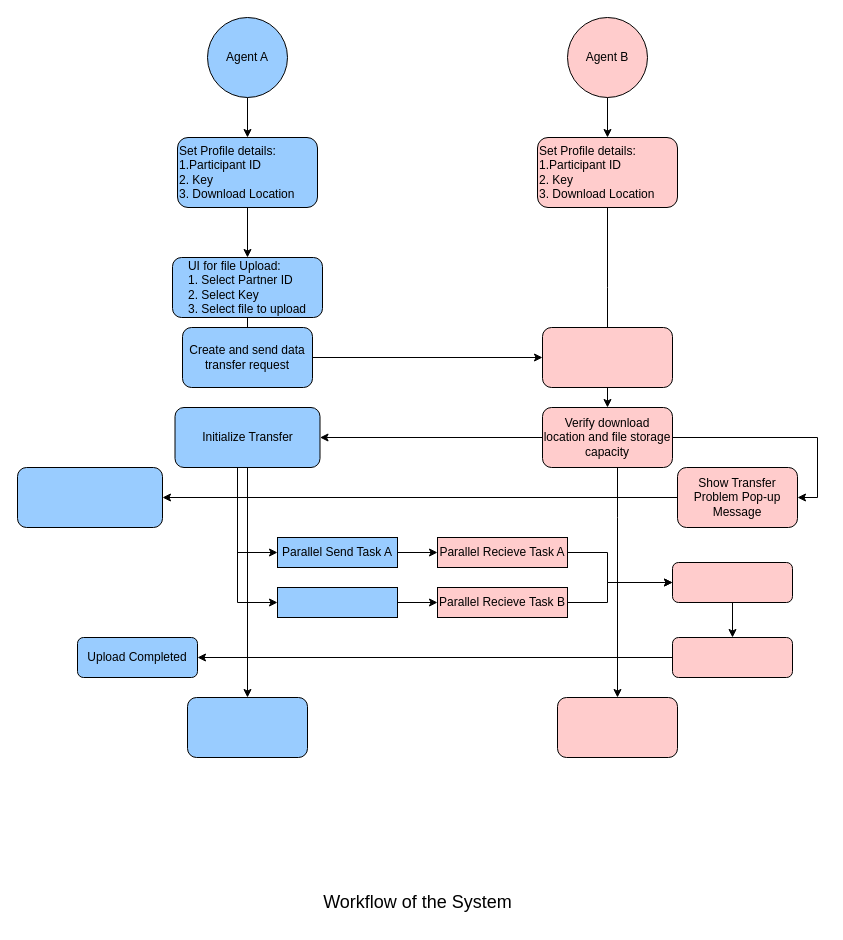
This 843x940 diagram has some shape labels left out. Each missing label, with the box of its shape:
Download Completed: (672, 636, 792, 678)
MD5 File verification: (672, 562, 792, 602)
Parallel Send Task B: (276, 586, 398, 618)
Show Download Progress: (556, 696, 678, 758)
Show Upload Progress: (186, 696, 308, 758)
Stop Transfer: (16, 466, 162, 528)
Verify transfer request using key: (542, 326, 672, 388)
